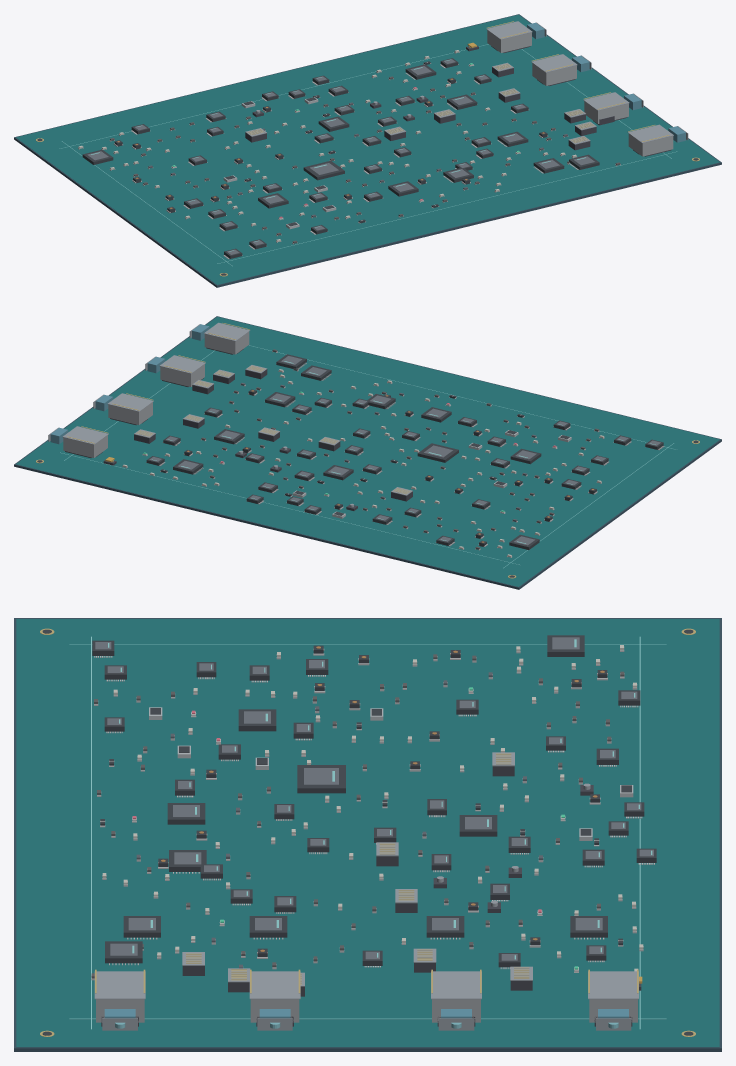
Rendered from 273_L117_AssembledReference.glb.
3 renders of one model, top to bottom at view 1: azimuth 30°, elevation 25°; view 2: azimuth 150°, elevation 25°; view 3: azimuth 270°, elevation 25°, orthographic. The views are drawn at different scales.
Parts seen in each view (by area): view 1: 001_Mask_Teal__PSMAT__Mask_Teal, 000_PCB_Midnight__PSMAT__PCB_Midnight, 1802_SFP_Cage__PSMAT__SFP_Cage, 1812_SFP_Cage__PSMAT__SFP_Cage, 1817_SFP_Cage__PSMAT__SFP_Cage, 1807_SFP_Cage__PSMAT__SFP_Cage, 1803_Steel_Polished__PSMAT__Steel_Polished, 1808_Steel_Polished__PSMAT__Steel_Polished, 1813_Steel_Polished__PSMAT__Steel_Polished, 1818_Steel_Polished__PSMAT__Steel_Polished; view 2: 001_Mask_Teal__PSMAT__Mask_Teal, 000_PCB_Midnight__PSMAT__PCB_Midnight, 1802_SFP_Cage__PSMAT__SFP_Cage, 1812_SFP_Cage__PSMAT__SFP_Cage, 1817_SFP_Cage__PSMAT__SFP_Cage, 1807_SFP_Cage__PSMAT__SFP_Cage, 1808_Steel_Polished__PSMAT__Steel_Polished, 1813_Steel_Polished__PSMAT__Steel_Polished, 1803_Steel_Polished__PSMAT__Steel_Polished, 1818_Steel_Polished__PSMAT__Steel_Polished; view 3: 001_Mask_Teal__PSMAT__Mask_Teal, 000_PCB_Midnight__PSMAT__PCB_Midnight, 1803_Steel_Polished__PSMAT__Steel_Polished, 1808_Steel_Polished__PSMAT__Steel_Polished, 1813_Steel_Polished__PSMAT__Steel_Polished, 1818_Steel_Polished__PSMAT__Steel_Polished, 014_Black_Epoxy__PSMAT__Black_Epoxy, 013_Silkscreen_Cyan__PSMAT__Silkscreen_Cyan, 1807_SFP_Cage__PSMAT__SFP_Cage, 1802_SFP_Cage__PSMAT__SFP_Cage, 1817_SFP_Cage__PSMAT__SFP_Cage, 1812_SFP_Cage__PSMAT__SFP_Cage.
Boxes of the visible parts, x1,y1,x2,y2 form: 001_Mask_Teal__PSMAT__Mask_Teal: (16, 15, 719, 284); 000_PCB_Midnight__PSMAT__PCB_Midnight: (14, 14, 721, 287); 1802_SFP_Cage__PSMAT__SFP_Cage: (628, 134, 673, 156); 1812_SFP_Cage__PSMAT__SFP_Cage: (532, 63, 576, 85); 1817_SFP_Cage__PSMAT__SFP_Cage: (487, 30, 531, 52); 1807_SFP_Cage__PSMAT__SFP_Cage: (584, 101, 628, 123); 1803_Steel_Polished__PSMAT__Steel_Polished: (627, 124, 673, 143); 1808_Steel_Polished__PSMAT__Steel_Polished: (583, 92, 629, 110); 1813_Steel_Polished__PSMAT__Steel_Polished: (531, 54, 577, 72); 1818_Steel_Polished__PSMAT__Steel_Polished: (486, 21, 532, 39); 001_Mask_Teal__PSMAT__Mask_Teal: (16, 317, 719, 586); 000_PCB_Midnight__PSMAT__PCB_Midnight: (14, 316, 721, 589); 1802_SFP_Cage__PSMAT__SFP_Cage: (204, 332, 249, 354); 1812_SFP_Cage__PSMAT__SFP_Cage: (108, 402, 152, 424); 1817_SFP_Cage__PSMAT__SFP_Cage: (63, 435, 107, 457); 1807_SFP_Cage__PSMAT__SFP_Cage: (160, 364, 204, 386); 1808_Steel_Polished__PSMAT__Steel_Polished: (159, 355, 205, 373); 1813_Steel_Polished__PSMAT__Steel_Polished: (107, 393, 153, 411); 1803_Steel_Polished__PSMAT__Steel_Polished: (204, 322, 250, 341); 1818_Steel_Polished__PSMAT__Steel_Polished: (62, 426, 108, 444); 001_Mask_Teal__PSMAT__Mask_Teal: (16, 619, 719, 1047); 000_PCB_Midnight__PSMAT__PCB_Midnight: (14, 618, 721, 1051); 1803_Steel_Polished__PSMAT__Steel_Polished: (94, 971, 145, 999); 1808_Steel_Polished__PSMAT__Steel_Polished: (249, 971, 300, 999); 1813_Steel_Polished__PSMAT__Steel_Polished: (431, 971, 481, 999); 1818_Steel_Polished__PSMAT__Steel_Polished: (588, 971, 638, 999); 014_Black_Epoxy__PSMAT__Black_Epoxy: (297, 765, 345, 793); 013_Silkscreen_Cyan__PSMAT__Silkscreen_Cyan: (69, 1018, 666, 1019); 1807_SFP_Cage__PSMAT__SFP_Cage: (250, 999, 299, 1022); 1802_SFP_Cage__PSMAT__SFP_Cage: (96, 999, 144, 1022); 1817_SFP_Cage__PSMAT__SFP_Cage: (589, 999, 637, 1022); 1812_SFP_Cage__PSMAT__SFP_Cage: (432, 999, 480, 1022).
Size of the model in its own units: 0.46 by 0.017 by 0.32.
